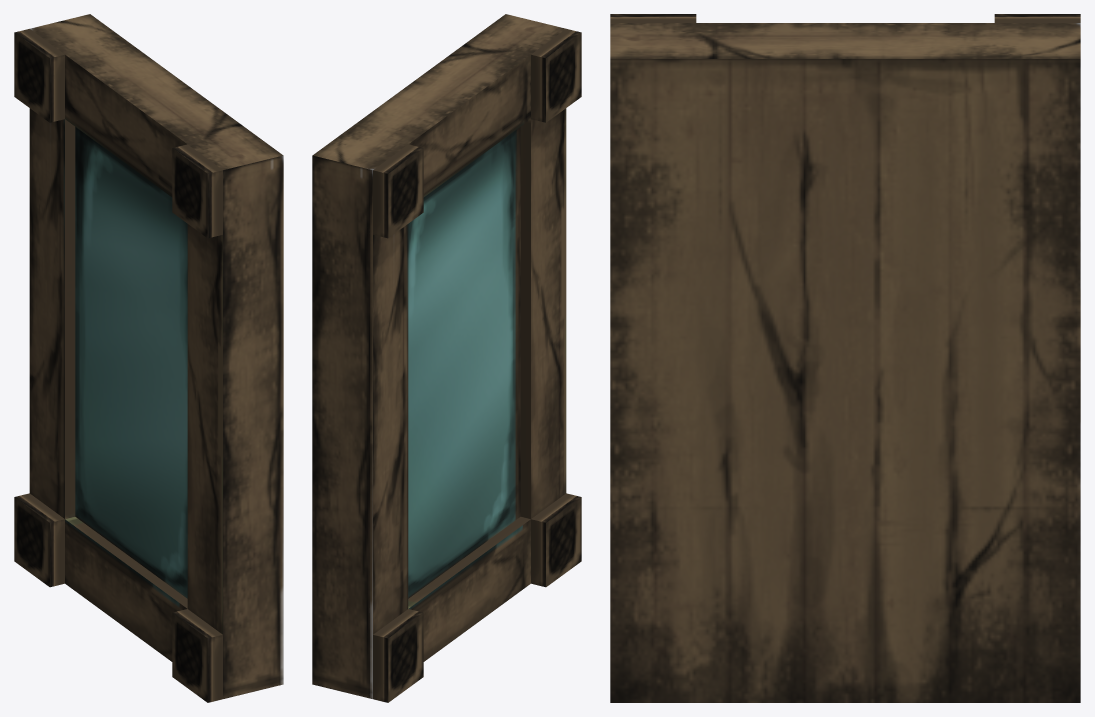
Rendered from Mirror.FBX.
The picture shows the model from 3 angles, left to right: view 1: azimuth 30°, elevation 25°; view 2: azimuth 150°, elevation 25°; view 3: azimuth 270°, elevation 25°; orthographic projection. The views are drawn at different scales.
Parts seen in each view (by area): view 1: Mirror; view 2: Mirror; view 3: Mirror.
Boxes of the visible parts, x1,y1,x2,y2 form: Mirror: (14,14,283,702); Mirror: (312,14,581,702); Mirror: (610,14,1080,702).
Size of the model in its own units: 2.39 by 15.95 by 10.56.
